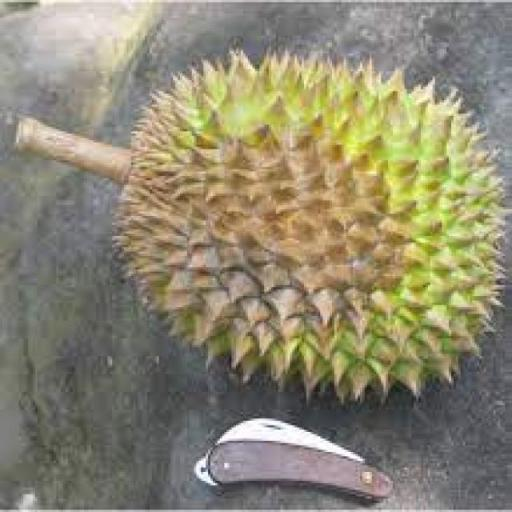rot: (0, 0, 511, 447)
